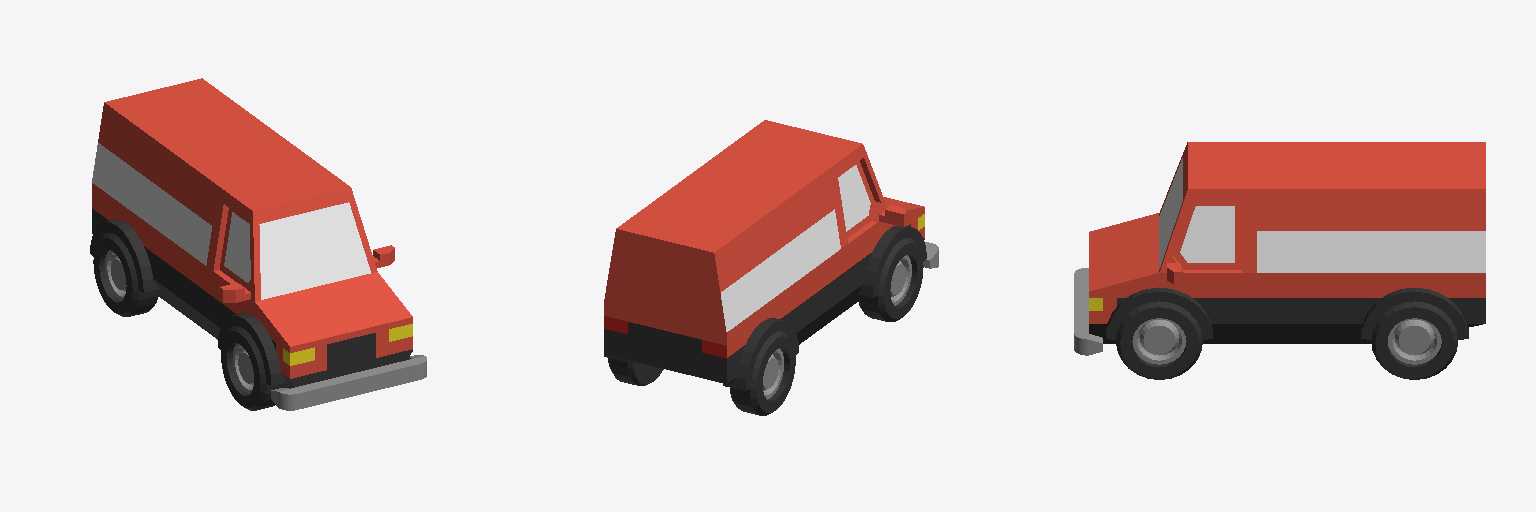
Rendered from van_red.obj.
3 views of the same model, side by side, from view 1: azimuth 30°, elevation 25°; view 2: azimuth 150°, elevation 25°; view 3: azimuth 270°, elevation 25° (orthographic).
Parts seen in each view (by area): view 1: mergedBlocks; view 2: mergedBlocks; view 3: mergedBlocks.
Part boxes in pixels (bbox=[...]): mergedBlocks: bbox=[90, 78, 426, 410]; mergedBlocks: bbox=[604, 120, 938, 415]; mergedBlocks: bbox=[1074, 142, 1485, 379].
Bounding box in the file's own units: 1.4 × 1.41 × 2.9.